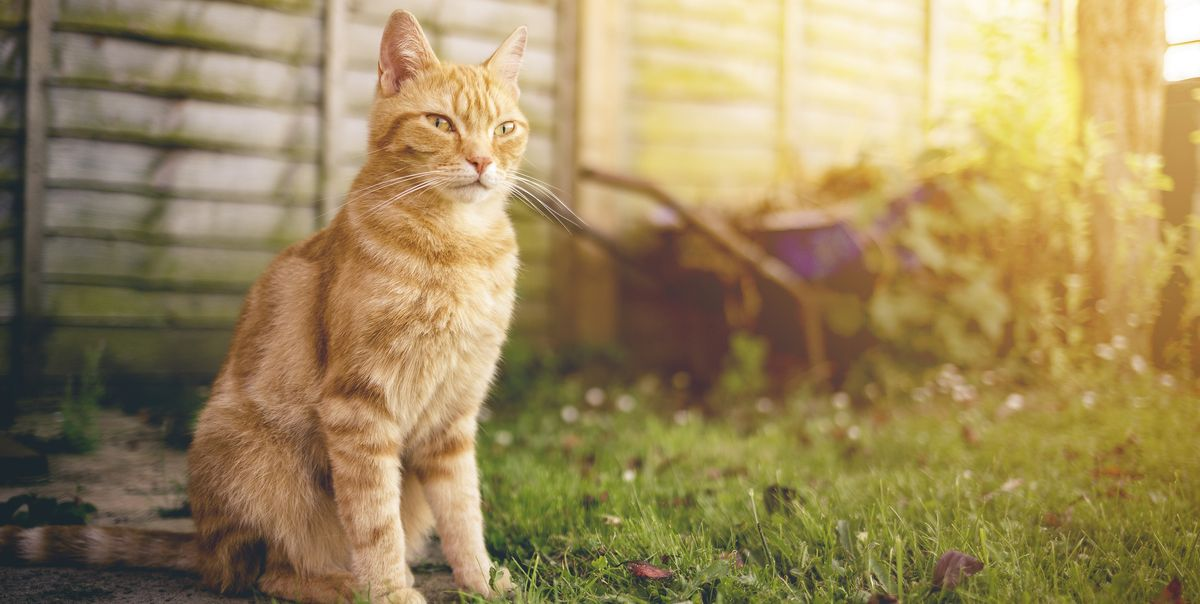cat: (193, 9, 537, 603)
